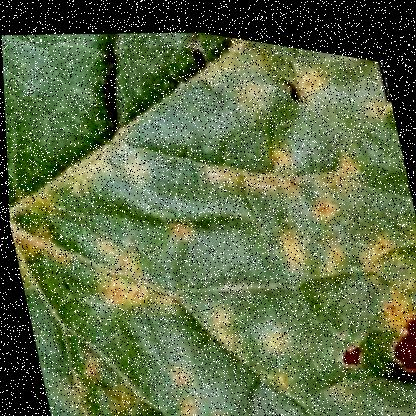Anthracnose: (186, 96, 370, 208), (75, 207, 180, 318), (346, 199, 415, 336)
